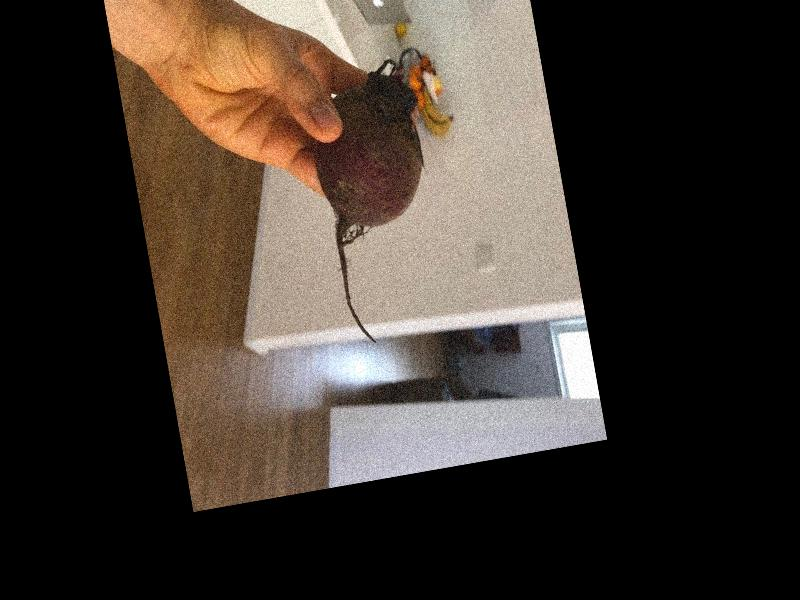Beet: (301, 57, 456, 348)
